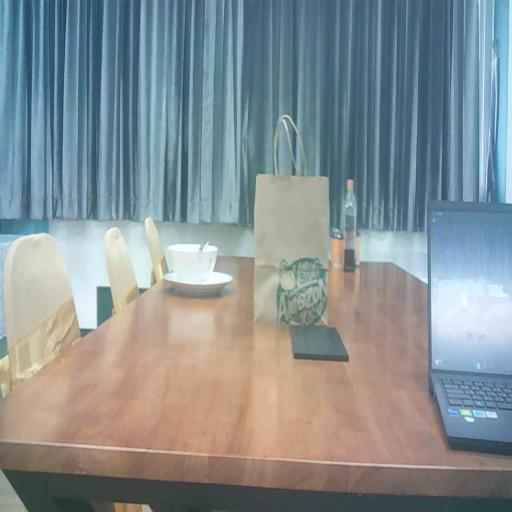bag: (250, 166, 333, 331)
